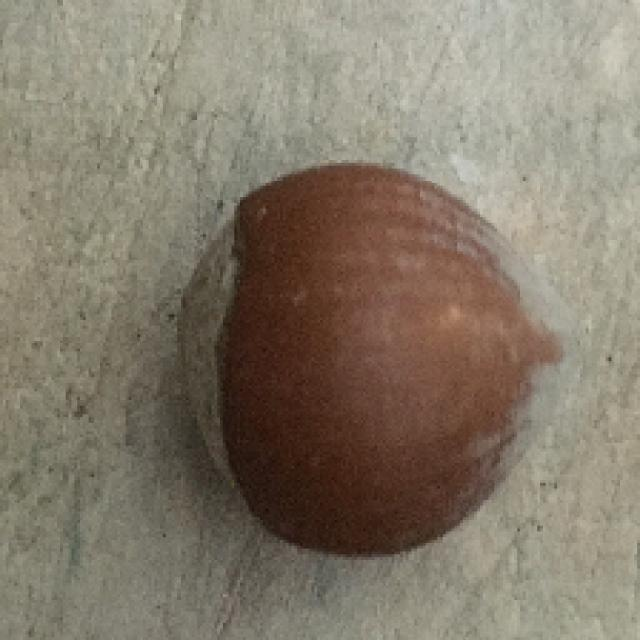qualityHazelnut: (170, 157, 591, 574)
